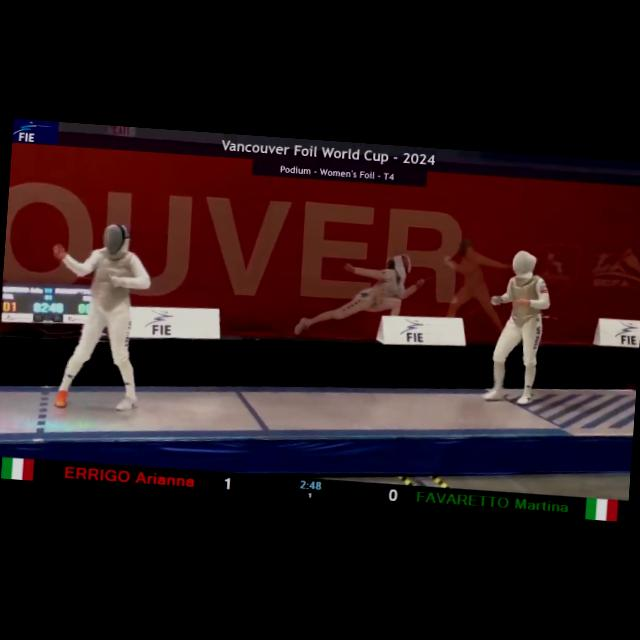blade: (460, 292, 501, 318)
